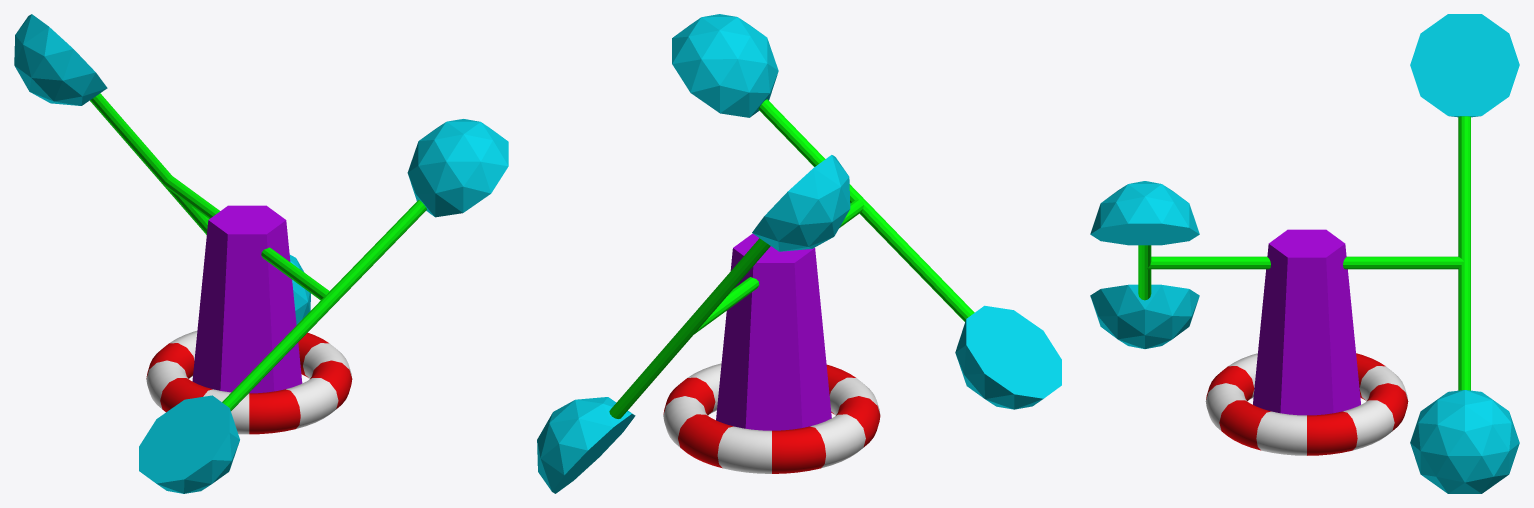
Rendered from catapult.glb.
3 renders of one model, left to right at view 1: azimuth 30°, elevation 25°; view 2: azimuth 150°, elevation 25°; view 3: azimuth 270°, elevation 25°, orthographic. The views are drawn at different scales.
Parts seen in each view (by area): view 1: WaterSplashCatapult, CatapultTrunk, CatapultSwimmer; view 2: WaterSplashCatapult, CatapultTrunk, CatapultSwimmer; view 3: WaterSplashCatapult, CatapultTrunk, CatapultSwimmer.
Boxes of the visible parts, x1=… form: WaterSplashCatapult: x1=14, y1=14, x2=508, y2=493; CatapultTrunk: x1=192, y1=205, x2=302, y2=393; CatapultSwimmer: x1=146, y1=331, x2=352, y2=434; WaterSplashCatapult: x1=537, y1=14, x2=1061, y2=493; CatapultTrunk: x1=716, y1=233, x2=831, y2=430; CatapultSwimmer: x1=663, y1=363, x2=880, y2=473; WaterSplashCatapult: x1=1090, y1=14, x2=1519, y2=493; CatapultTrunk: x1=1253, y1=229, x2=1360, y2=415; CatapultSwimmer: x1=1205, y1=353, x2=1408, y2=455.
Bounding box in the file's own units: 7.29 × 7.29 × 7.83.
